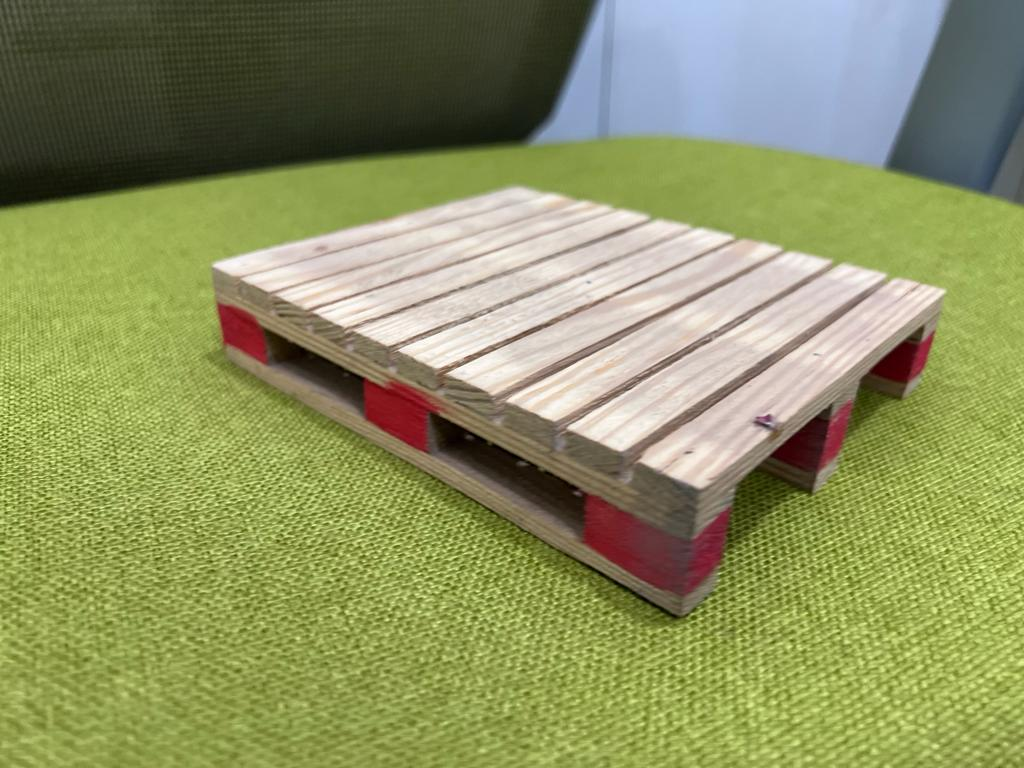pallet: (181, 182, 950, 616)
